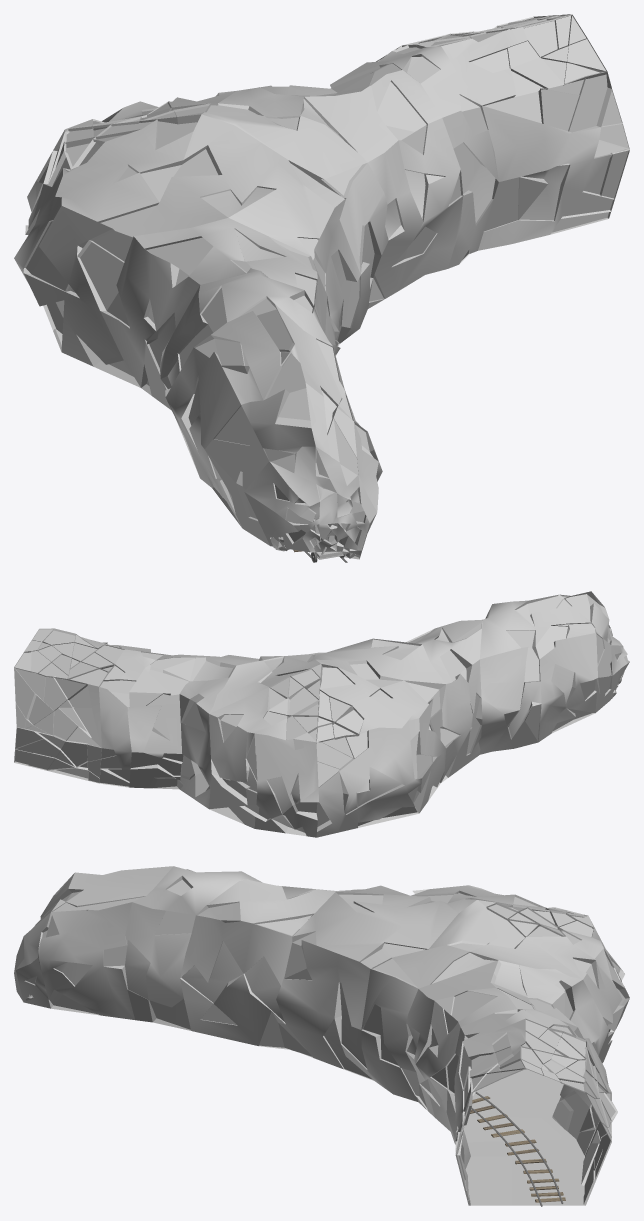
The model's file is mine_model_interior.fbx.
The picture shows the model from 3 angles, top to bottom: view 1: azimuth 30°, elevation 25°; view 2: azimuth 150°, elevation 25°; view 3: azimuth 270°, elevation 25°; orthographic projection. The views are drawn at different scales.
Parts seen in each view (by area): view 1: pCube1; view 2: pCube1; view 3: pCube1.
Part boxes in pixels (x1,y1,x2,y2): pCube1: (14,14,629,559); pCube1: (14,591,629,837); pCube1: (14,866,629,1205).
Bounding box in the file's own units: 213 × 65.6 × 235.
